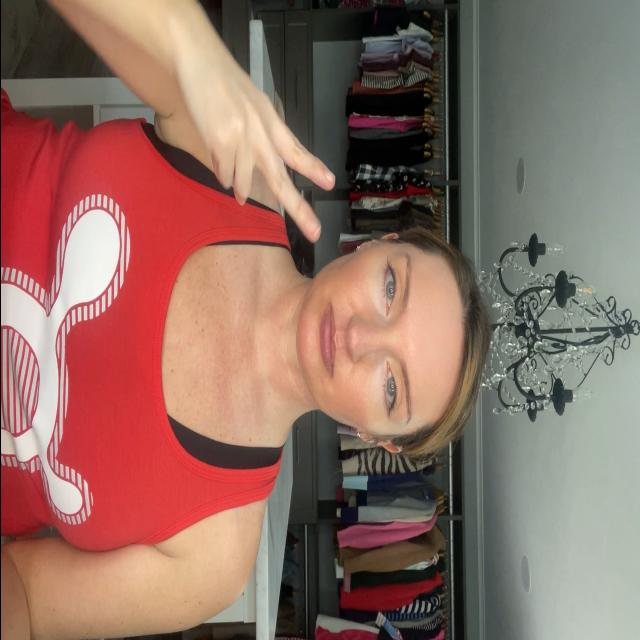Scissors: (196, 9, 334, 239)
